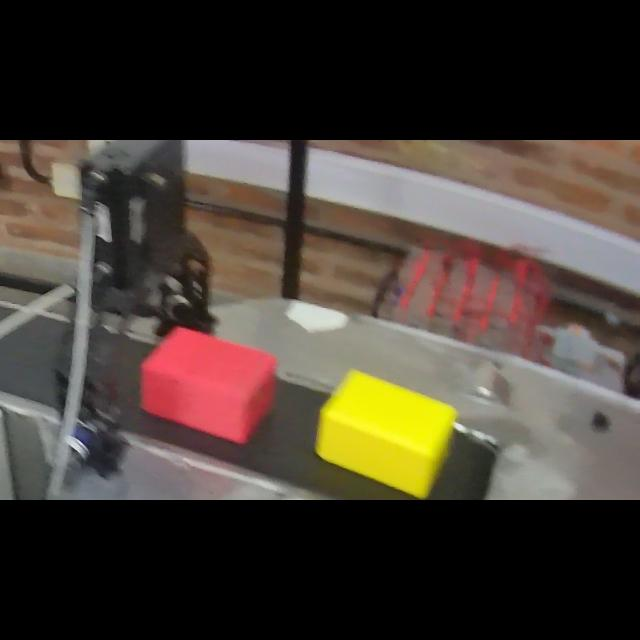redBox: (136, 319, 282, 449)
yellowBox: (316, 366, 464, 500)
